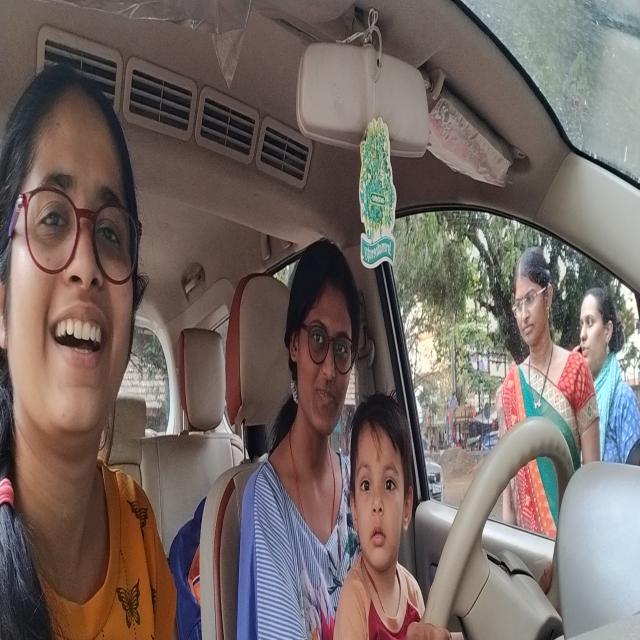child: (349, 400, 415, 573)
person: (0, 90, 134, 427), (291, 252, 358, 442)
